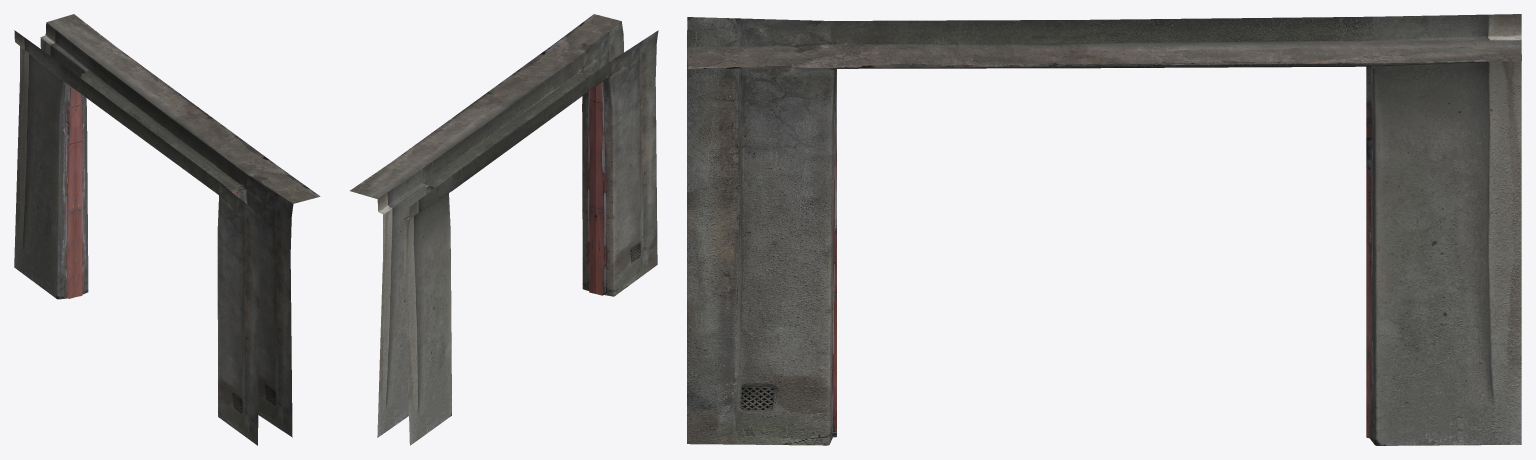
File: sm_GarageFront_01_02.fbx
3 renders of one model, left to right at view 1: azimuth 30°, elevation 25°; view 2: azimuth 150°, elevation 25°; view 3: azimuth 270°, elevation 25°, orthographic. The views are drawn at different scales.
Parts seen in each view (by area): view 1: sm_GarageFront_01_02_LOD0; view 2: sm_GarageFront_01_02_LOD0; view 3: sm_GarageFront_01_02_LOD0.
Part boxes in pixels (bbox=[...]): sm_GarageFront_01_02_LOD0: bbox=[14, 14, 320, 445]; sm_GarageFront_01_02_LOD0: bbox=[350, 14, 658, 445]; sm_GarageFront_01_02_LOD0: bbox=[687, 14, 1521, 445].
Bounding box in the file's own units: 552 × 83.2 × 298.
